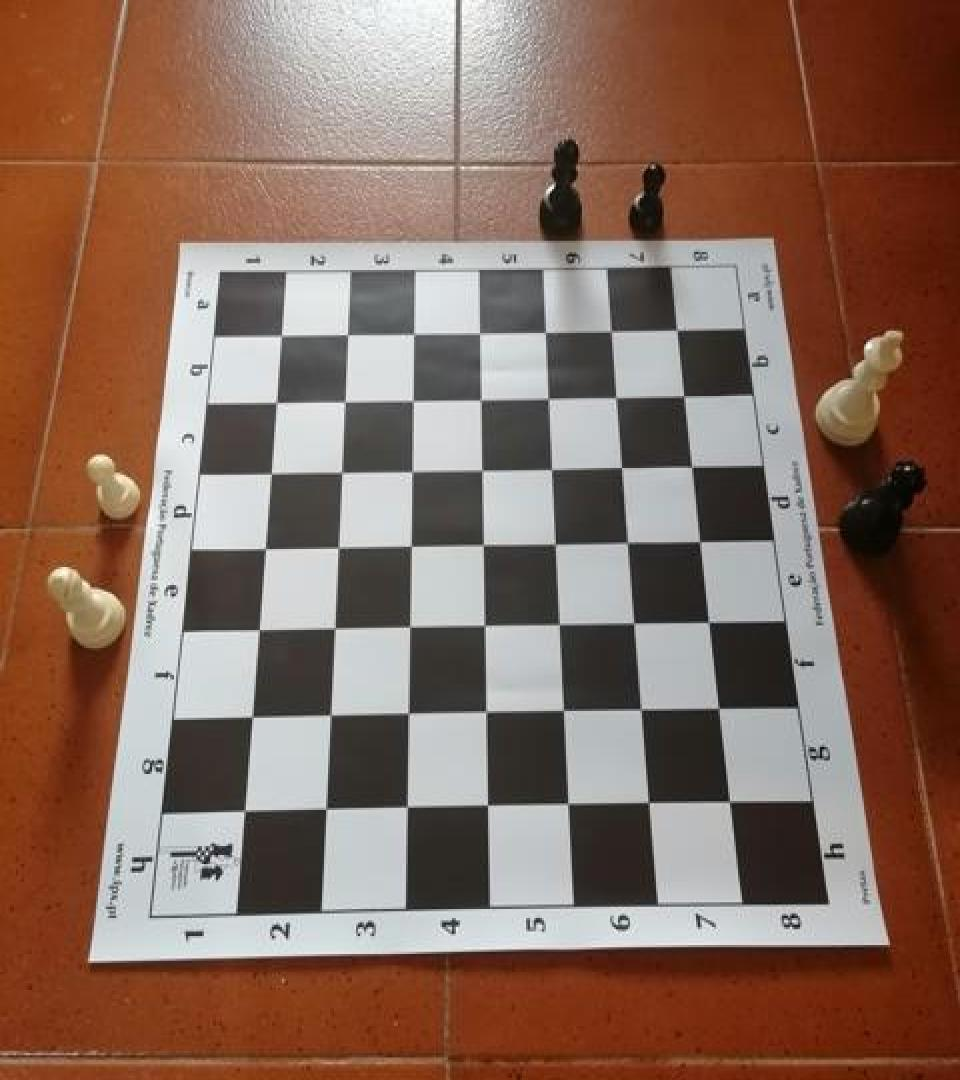xcorner: (535, 315, 563, 347), (469, 316, 497, 348), (402, 316, 430, 348), (335, 317, 363, 349), (268, 318, 296, 350), (675, 380, 703, 412), (607, 381, 635, 413), (538, 382, 566, 414), (470, 382, 498, 414), (683, 451, 711, 483), (612, 452, 640, 484), (541, 453, 569, 485), (471, 454, 499, 486), (472, 531, 500, 563), (398, 532, 426, 564), (325, 533, 353, 565), (251, 534, 279, 566), (473, 612, 501, 644), (397, 613, 425, 645), (321, 614, 349, 646), (245, 615, 273, 647), (709, 695, 737, 727), (631, 696, 659, 728), (552, 697, 580, 729), (317, 702, 345, 734), (238, 703, 266, 735), (557, 792, 585, 824), (475, 793, 503, 825), (394, 794, 422, 826), (312, 796, 340, 828), (668, 313, 696, 344), (602, 314, 630, 345), (401, 384, 429, 415), (332, 385, 360, 416), (263, 386, 291, 417), (400, 456, 428, 487), (328, 457, 356, 488), (257, 458, 285, 489), (691, 528, 719, 559), (618, 529, 646, 560), (545, 530, 573, 561), (700, 609, 728, 640), (624, 610, 652, 641), (549, 611, 577, 642), (474, 700, 502, 731), (395, 701, 423, 732), (719, 789, 747, 820), (638, 790, 666, 821), (230, 798, 258, 829)
